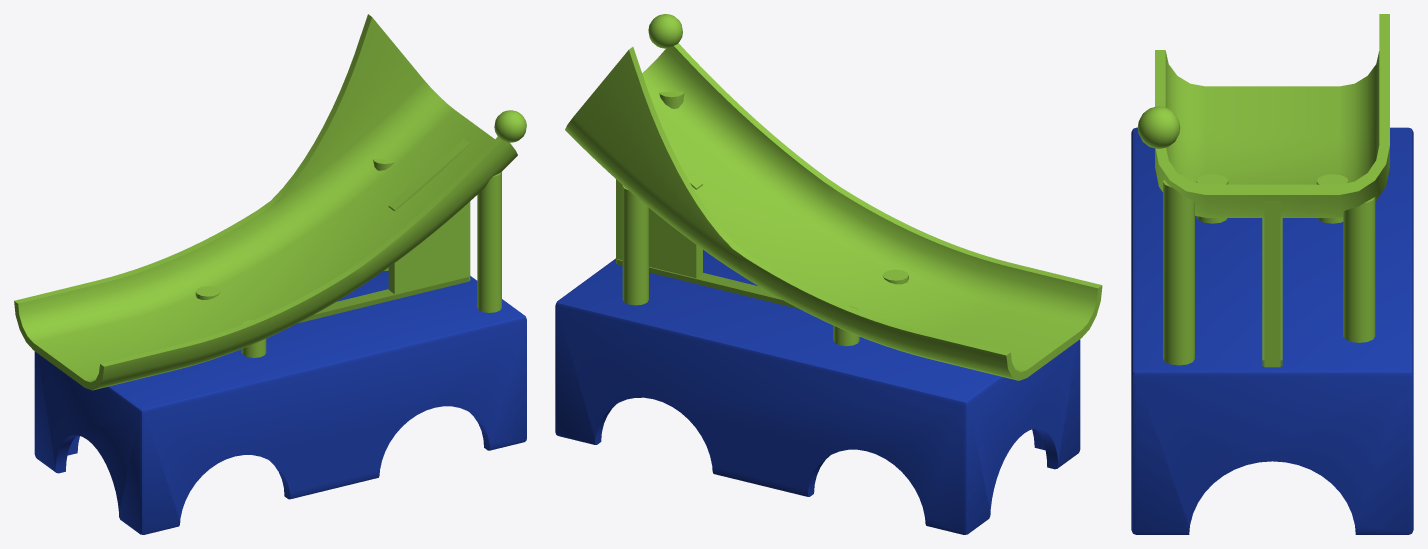
3 renders of one model, left to right at view 1: azimuth 30°, elevation 25°; view 2: azimuth 150°, elevation 25°; view 3: azimuth 270°, elevation 25°, orthographic. The views are drawn at different scales.
Visible parts, largest first — view 1: M-10__5422; view 2: M-10__5422; view 3: M-10__5422.
Boxes of the visible parts, left/top/right/bottom form: M-10__5422: left=14, top=14, right=526, bottom=534; M-10__5422: left=555, top=14, right=1102, bottom=534; M-10__5422: left=1131, top=14, right=1413, bottom=534.
Size of the model in its own units: 0.0959 by 0.08 by 0.0423.
